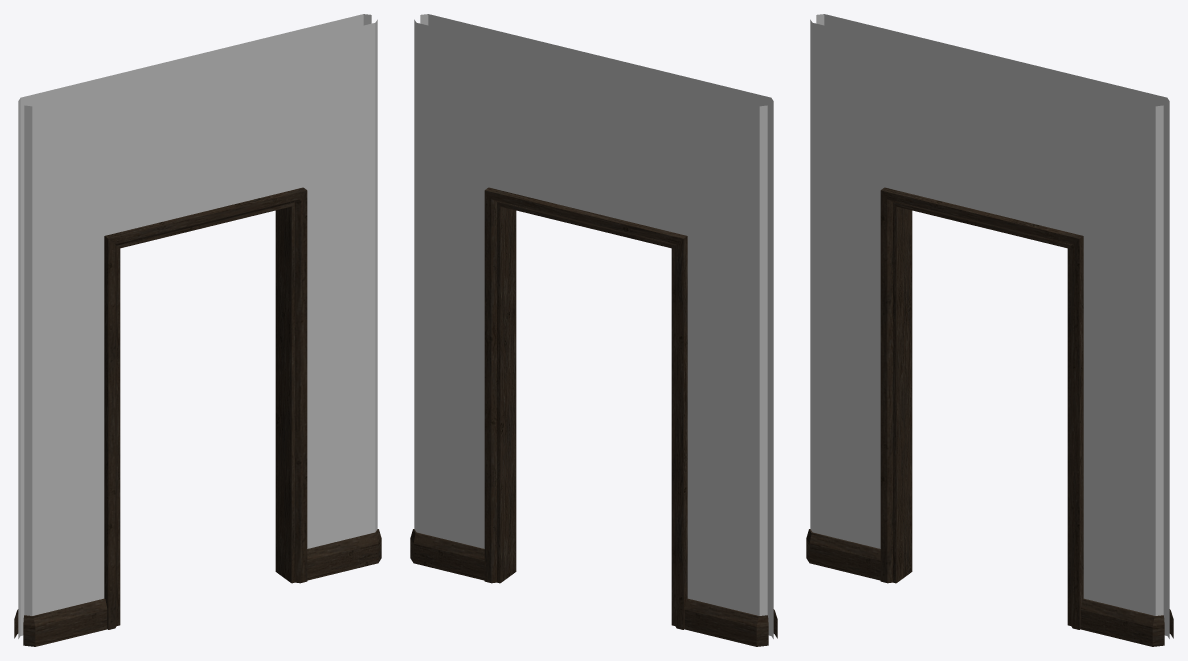
File: doorway_2_1_half.fbx
3 views of the same model, side by side, from view 1: azimuth 30°, elevation 25°; view 2: azimuth 150°, elevation 25°; view 3: azimuth 330°, elevation 25° (orthographic).
Parts seen in each view (by area): view 1: doorway_2_1_half; view 2: doorway_2_1_half; view 3: doorway_2_1_half.
Part boxes in pixels (x1=…): doorway_2_1_half: x1=14, y1=14, x2=381, y2=646; doorway_2_1_half: x1=410, y1=14, x2=777, y2=646; doorway_2_1_half: x1=806, y1=14, x2=1173, y2=646.
Size of the model in its own units: 2.09 by 3 by 0.2.
